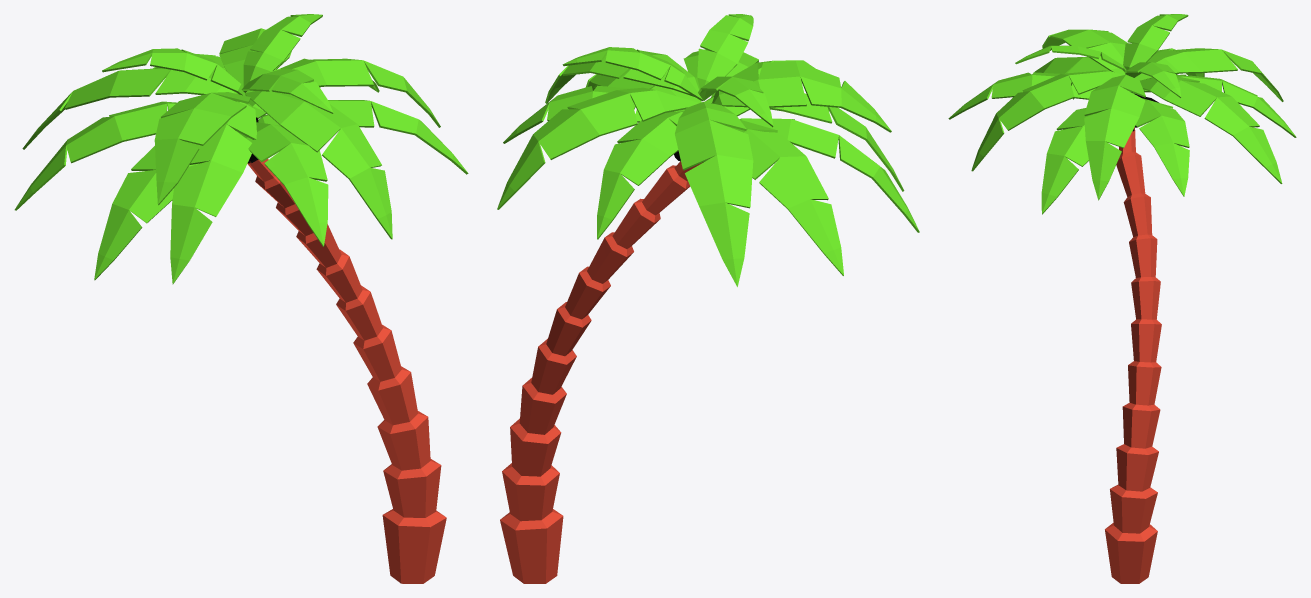
File: Palm_4.fbx
The picture shows the model from 3 angles, left to right: view 1: azimuth 30°, elevation 25°; view 2: azimuth 150°, elevation 25°; view 3: azimuth 270°, elevation 25°; orthographic projection. The views are drawn at different scales.
Visible parts, largest first — view 1: Palm_4; view 2: Palm_4; view 3: Palm_4.
Part boxes in pixels (bbox=[...]): Palm_4: bbox=[14, 14, 468, 583]; Palm_4: bbox=[497, 14, 919, 583]; Palm_4: bbox=[948, 14, 1296, 583].
Size of the model in its own units: 3.31 by 4.71 by 3.17.
